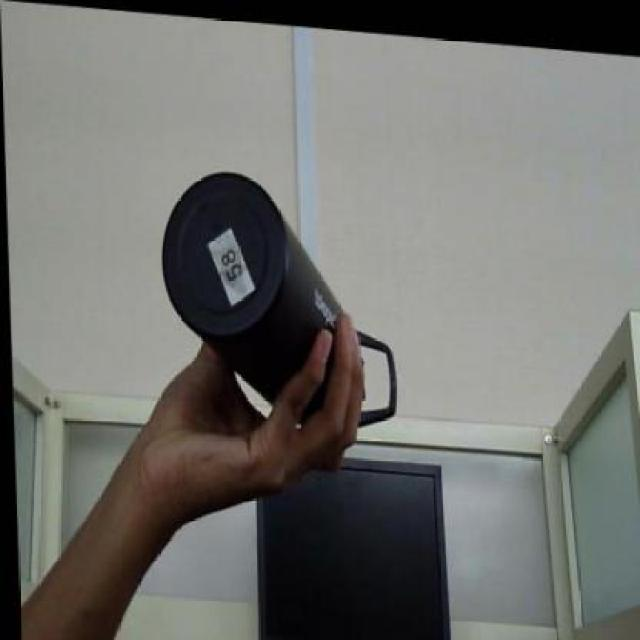Metal: (160, 165, 371, 411)
